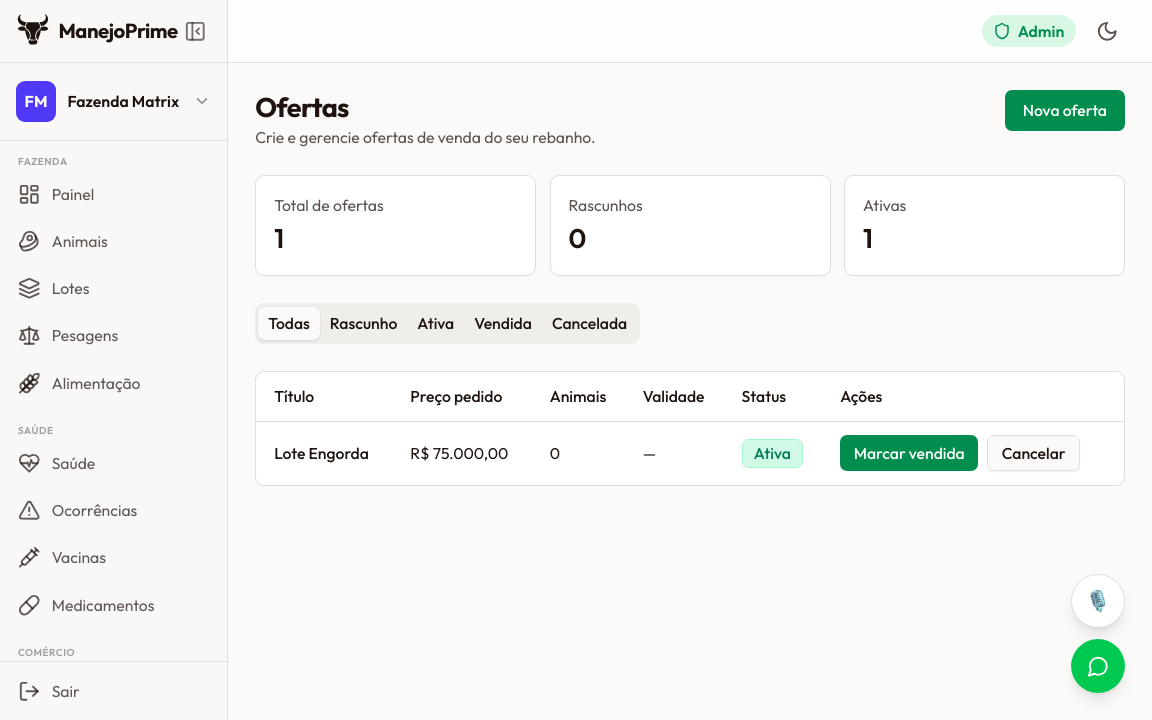
offers page migration › admin can mark an active offer as sold via the confirmation modal
This screenshot has width=1152, height=720.
Click the button "Marcar vendida": (909, 454) left=840, top=436, right=978, bottom=472
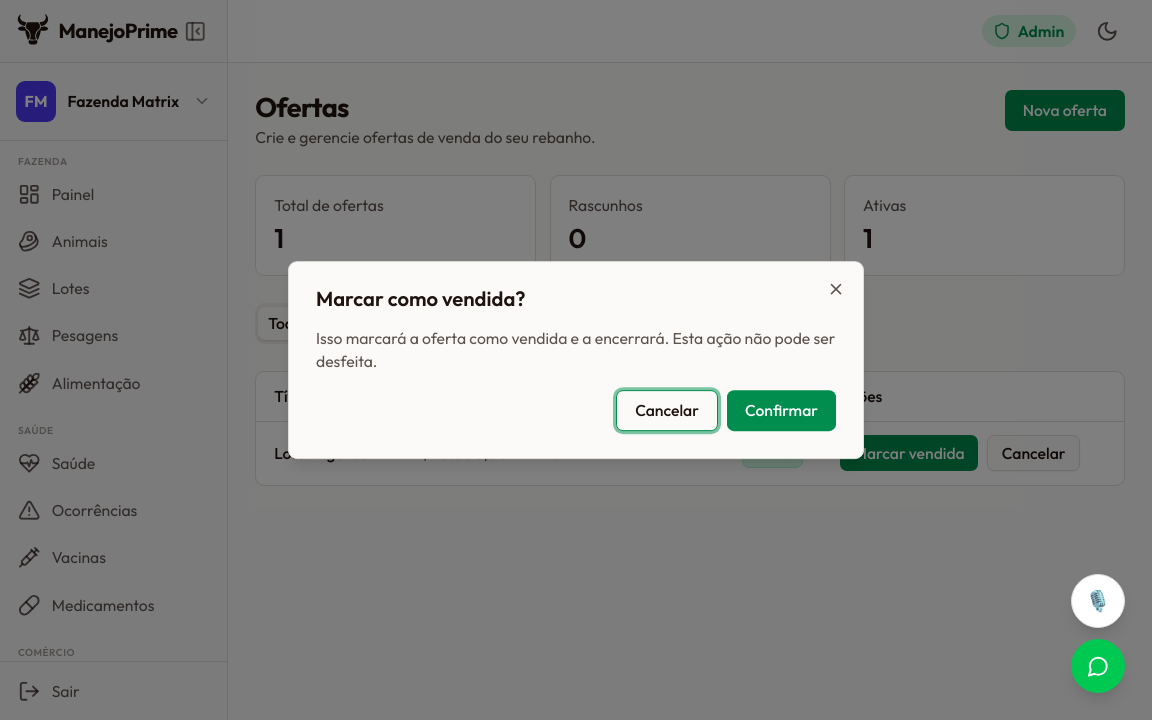
Expected: the heading "Marcar como vendida?" is shown, left=316, top=286, right=526, bottom=311
Click the button "Confirmar": (781, 411) left=727, top=390, right=836, bottom=431
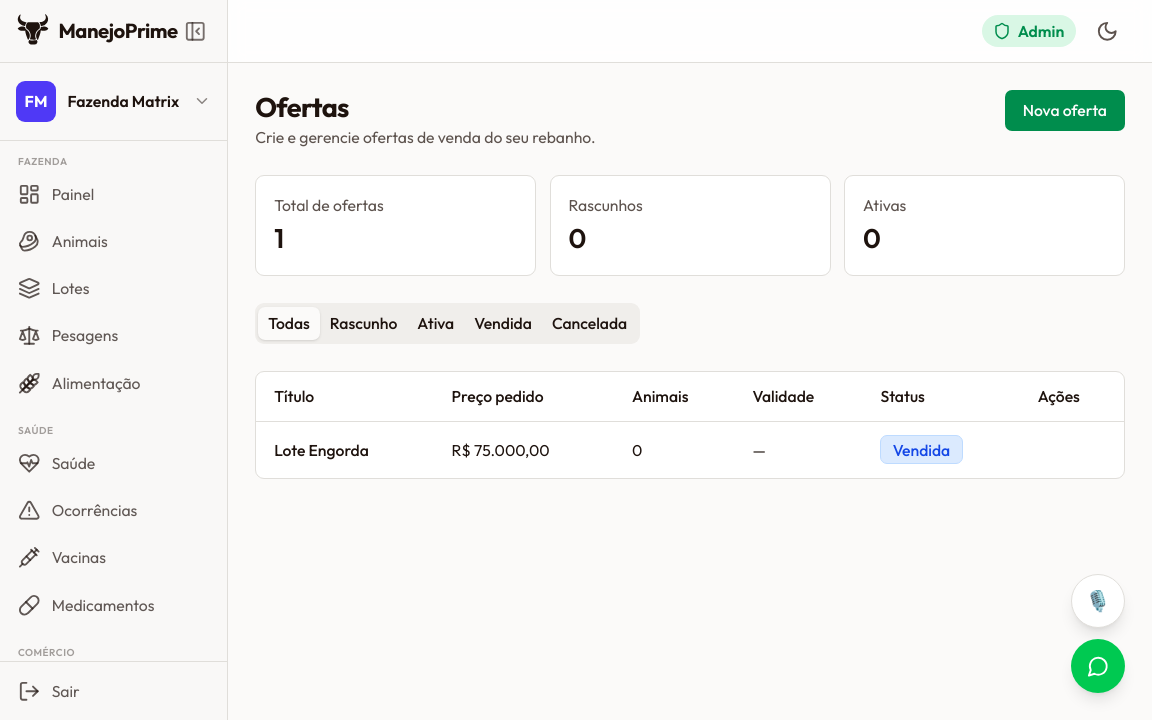
Expected: the button "Marcar vendida" is gone
